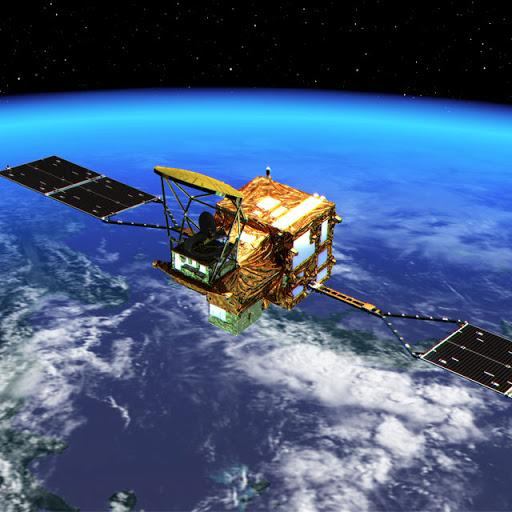antenna: (152, 164, 248, 204)
body: (150, 174, 337, 338)
solar: (0, 153, 160, 222), (419, 321, 512, 401)
